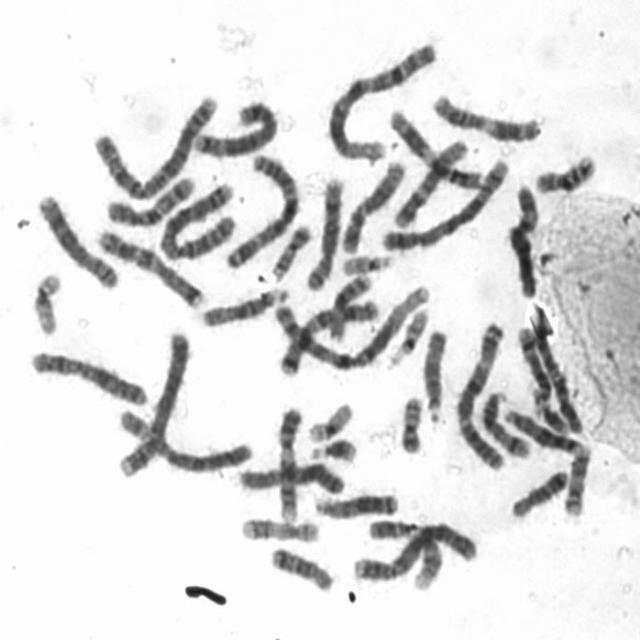A1: (270, 276, 433, 377), (321, 31, 440, 162)
A2: (87, 84, 222, 202), (153, 173, 240, 263)
A3: (218, 145, 302, 270), (448, 313, 508, 472)
B4: (112, 320, 193, 481), (346, 513, 481, 584)
B5: (375, 148, 512, 253), (187, 91, 281, 159)
C10: (514, 317, 586, 436), (98, 166, 198, 229)
C11: (383, 100, 486, 192), (425, 84, 544, 144)
C12: (386, 128, 471, 231), (336, 151, 408, 255)
C6: (112, 401, 257, 476), (502, 176, 541, 300)
C7: (90, 220, 205, 310), (278, 296, 379, 380)
C8: (30, 184, 121, 291), (299, 169, 347, 293)
C9: (361, 510, 446, 592), (270, 398, 306, 524)
D13: (497, 398, 588, 458), (307, 482, 401, 521)
D14: (472, 383, 534, 461), (511, 317, 554, 408)
D15: (195, 278, 292, 330), (416, 320, 450, 425)
E16: (527, 144, 600, 196), (326, 272, 375, 343)
E17: (234, 510, 322, 544), (558, 440, 594, 519)
E18: (263, 538, 336, 594), (504, 461, 572, 521)
F19: (24, 262, 64, 338), (301, 394, 356, 444)
F20: (265, 215, 315, 282), (394, 386, 426, 456)
G21: (302, 429, 360, 464), (529, 392, 571, 436)
G22: (380, 297, 432, 369), (337, 244, 395, 276)
X: (23, 342, 151, 409), (231, 455, 348, 496)
